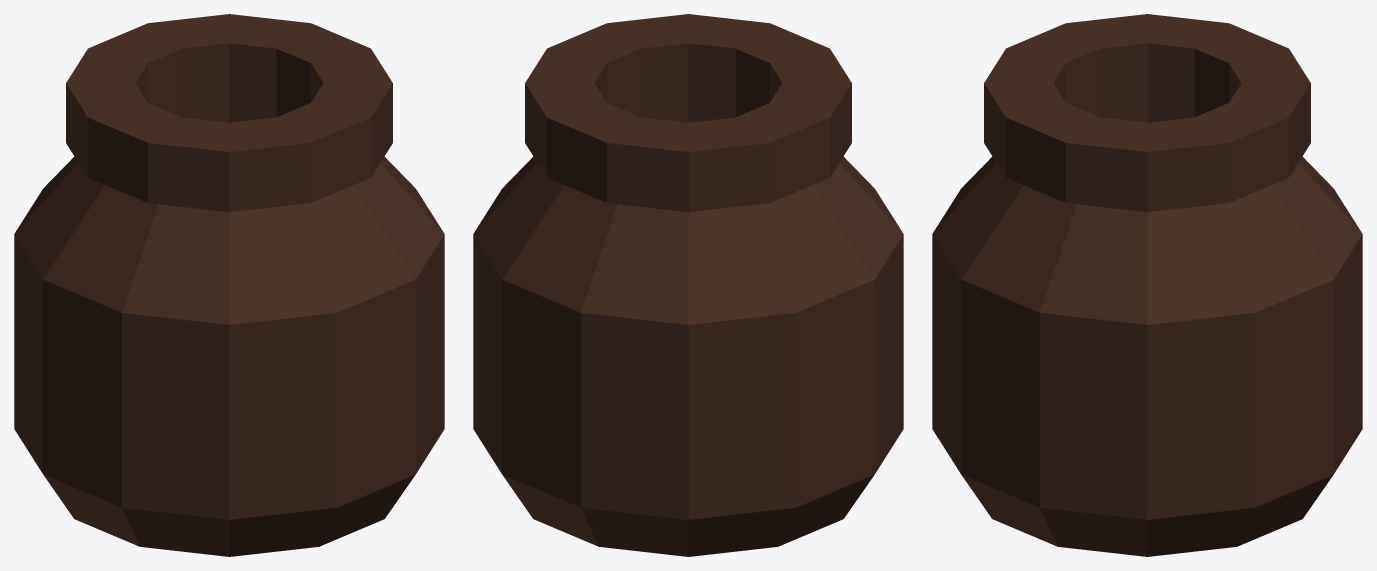
The model's file is small_pot.glb.
The picture shows the model from 3 angles, left to right: view 1: azimuth 30°, elevation 25°; view 2: azimuth 150°, elevation 25°; view 3: azimuth 270°, elevation 25°; orthographic projection.
Visible parts, largest first — view 1: Cylinder; view 2: Cylinder; view 3: Cylinder.
Part boxes in pixels (x1=…): Cylinder: x1=14, y1=14, x2=444, y2=556; Cylinder: x1=473, y1=14, x2=903, y2=556; Cylinder: x1=932, y1=14, x2=1362, y2=556.
Bounding box in the file's own units: 2 × 2.18 × 2.
